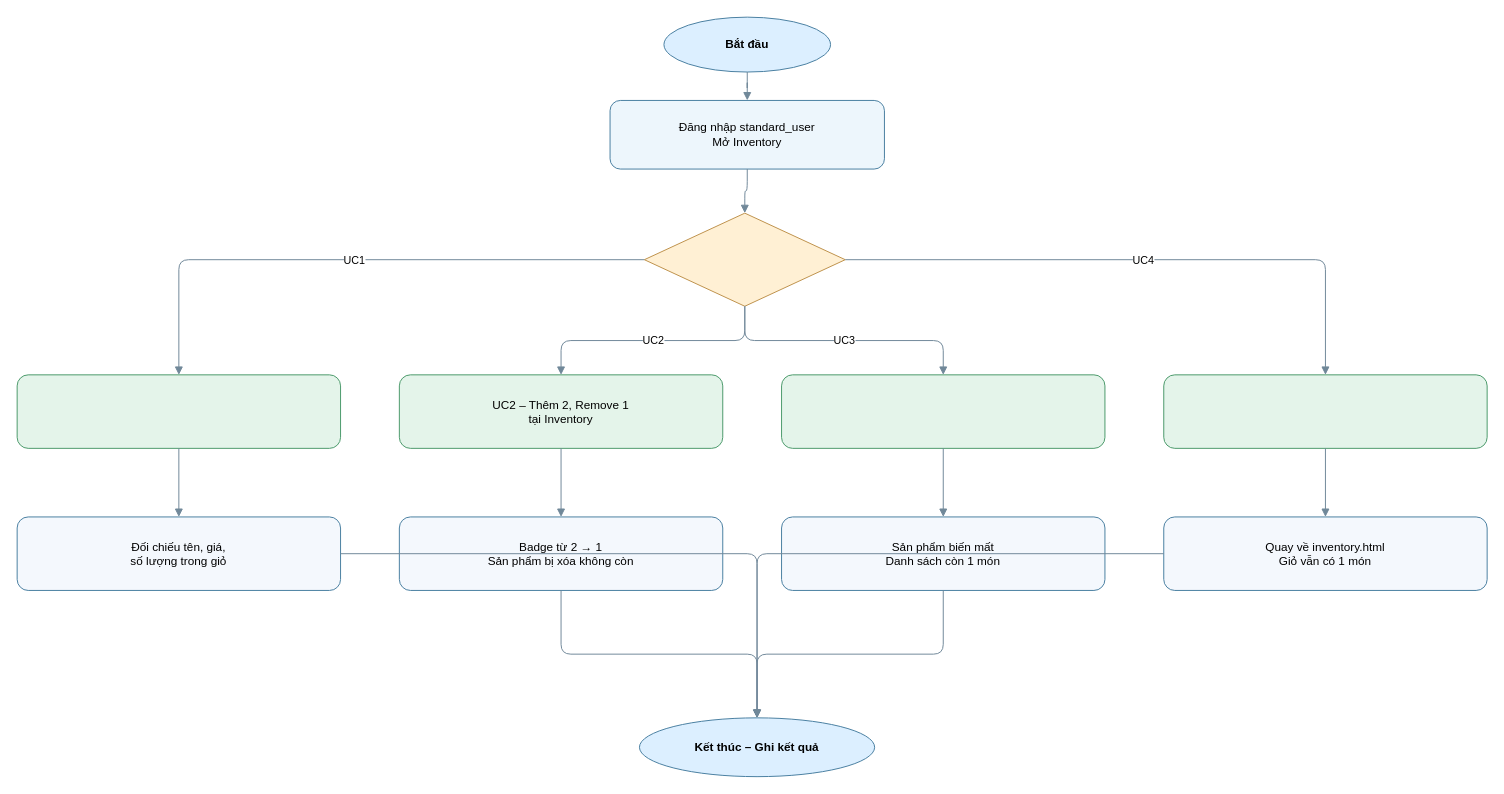
Some shapes in this 1504 by 794 pixel diagram are drawn without their labels. Here are the shapes that lost their labels. From the top down, the centre of each, then its label:
(x=744, y=259): Chọn luồng kiểm thử?
(x=178, y=411): UC1 – Thêm 2 sản phẩm Mở Cart
(x=943, y=411): UC3 – Thêm 2, mở Cart, Remove 1
(x=1325, y=411): UC4 – Thêm 1, mở Cart, Continue Shopping
